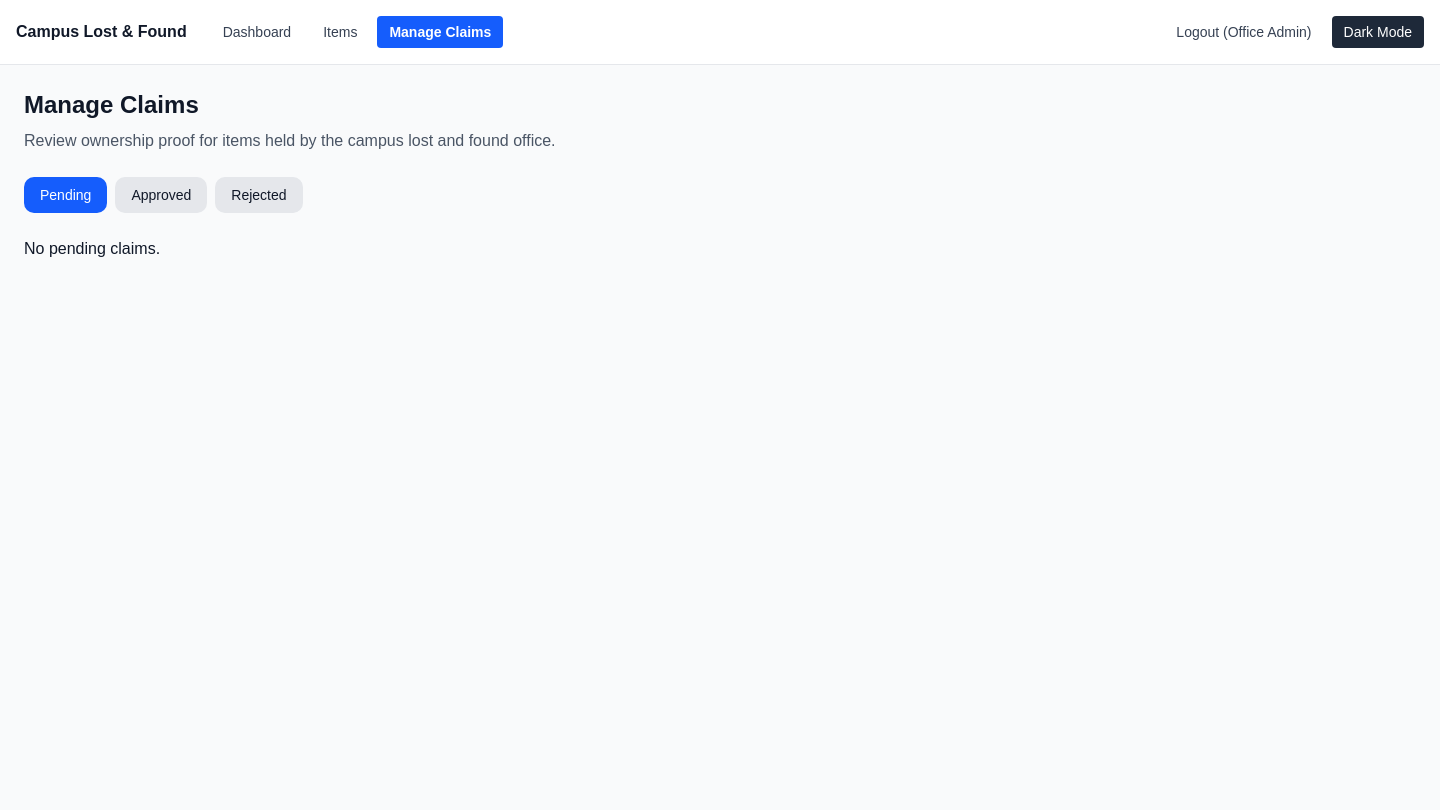
admin pages › does not offer decision actions or student pickup instructions in the admin reviewed view
Expected: the text "No pending claims." is shown, [24,240,160,257]
Click the button "Approved" at coordinates (161, 195), box [115,177,207,213]
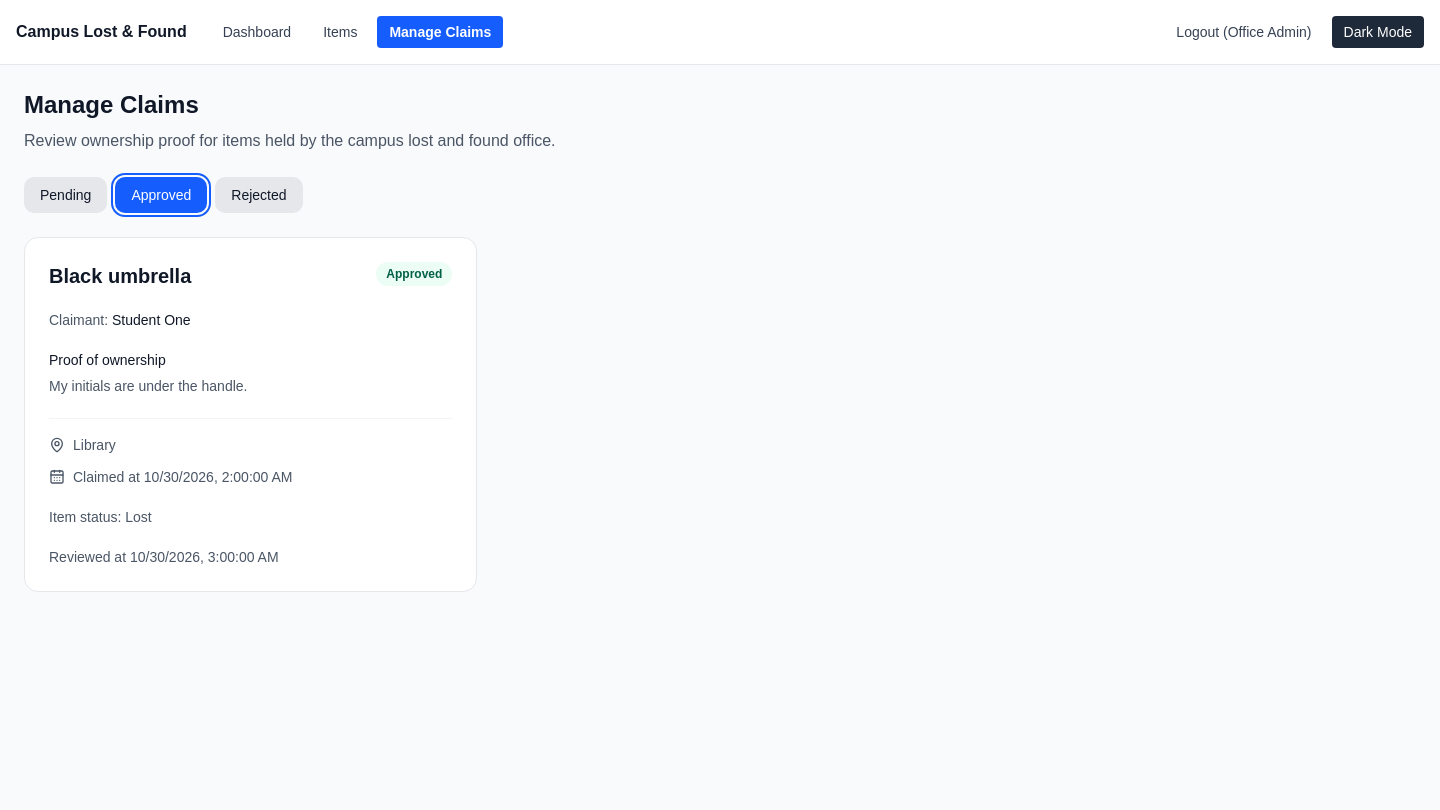
Now the text "Student One" is shown, box [112,312,191,328]
Now the text "Reviewed at 10/30/2026, 3:00:00 AM" is shown, box [49,549,279,565]
